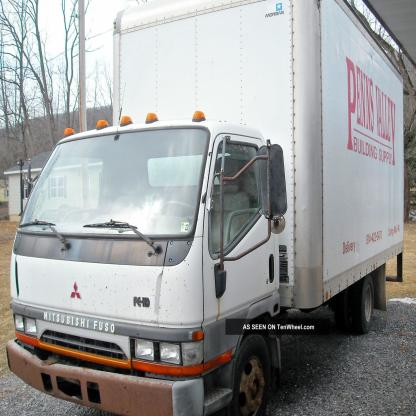truck: (1, 3, 407, 416)
